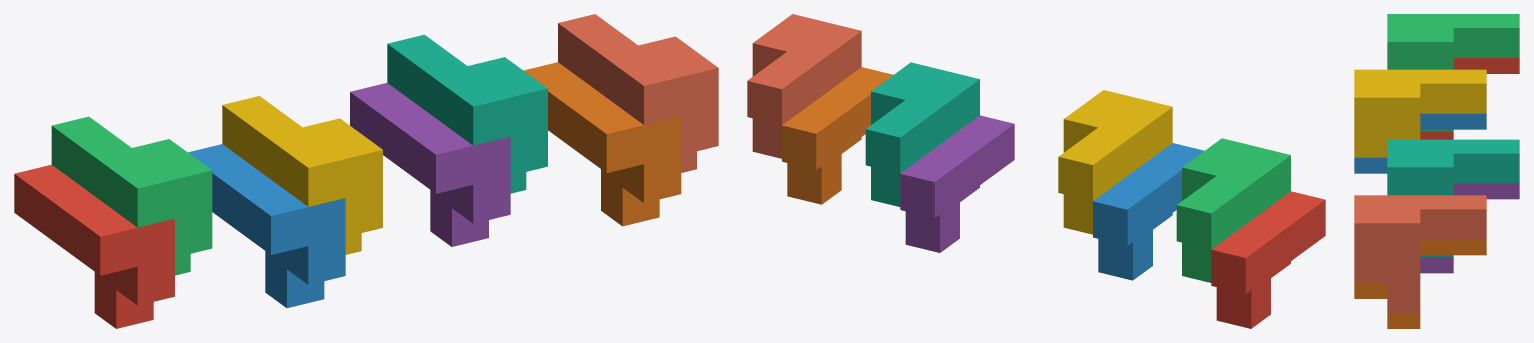
The model's file is tiling.obj.
3 renders of one model, left to right at view 1: azimuth 30°, elevation 25°; view 2: azimuth 150°, elevation 25°; view 3: azimuth 270°, elevation 25°, orthographic. The views are drawn at different scales.
Parts seen in each view (by area): view 1: copy_1_domain_1, copy_1_domain_5, copy_1_domain_3, copy_1_domain_4, copy_1_domain_7, copy_1_domain_8, copy_1_domain_2, copy_1_domain_6; view 2: copy_1_domain_4, copy_1_domain_8, copy_1_domain_3, copy_1_domain_7, copy_1_domain_1, copy_1_domain_5, copy_1_domain_2, copy_1_domain_6; view 3: copy_1_domain_8, copy_1_domain_4, copy_1_domain_7, copy_1_domain_3, copy_1_domain_6, copy_1_domain_2, copy_1_domain_5, copy_1_domain_1.
Boxes of the visible parts, x1,y1,x2,y2 form: copy_1_domain_1: (14, 164, 174, 328); copy_1_domain_5: (350, 83, 510, 246); copy_1_domain_3: (51, 116, 212, 275); copy_1_domain_4: (222, 96, 382, 254); copy_1_domain_7: (387, 34, 547, 193); copy_1_domain_8: (558, 14, 718, 172); copy_1_domain_2: (188, 144, 345, 308); copy_1_domain_6: (523, 62, 681, 226); copy_1_domain_4: (1058, 90, 1172, 234); copy_1_domain_8: (747, 14, 861, 158); copy_1_domain_3: (1176, 138, 1290, 282); copy_1_domain_7: (865, 62, 979, 206); copy_1_domain_1: (1211, 191, 1325, 328); copy_1_domain_5: (900, 115, 1014, 252); copy_1_domain_2: (1093, 143, 1204, 280); copy_1_domain_6: (782, 67, 893, 204); copy_1_domain_8: (1354, 195, 1486, 312); copy_1_domain_4: (1354, 69, 1486, 157); copy_1_domain_7: (1387, 139, 1519, 257); copy_1_domain_3: (1387, 14, 1519, 131); copy_1_domain_6: (1354, 239, 1486, 328); copy_1_domain_2: (1354, 113, 1486, 173); copy_1_domain_5: (1420, 183, 1519, 273); copy_1_domain_1: (1420, 58, 1519, 139).
Bounding box in the file's own units: 16 × 4 × 5.
